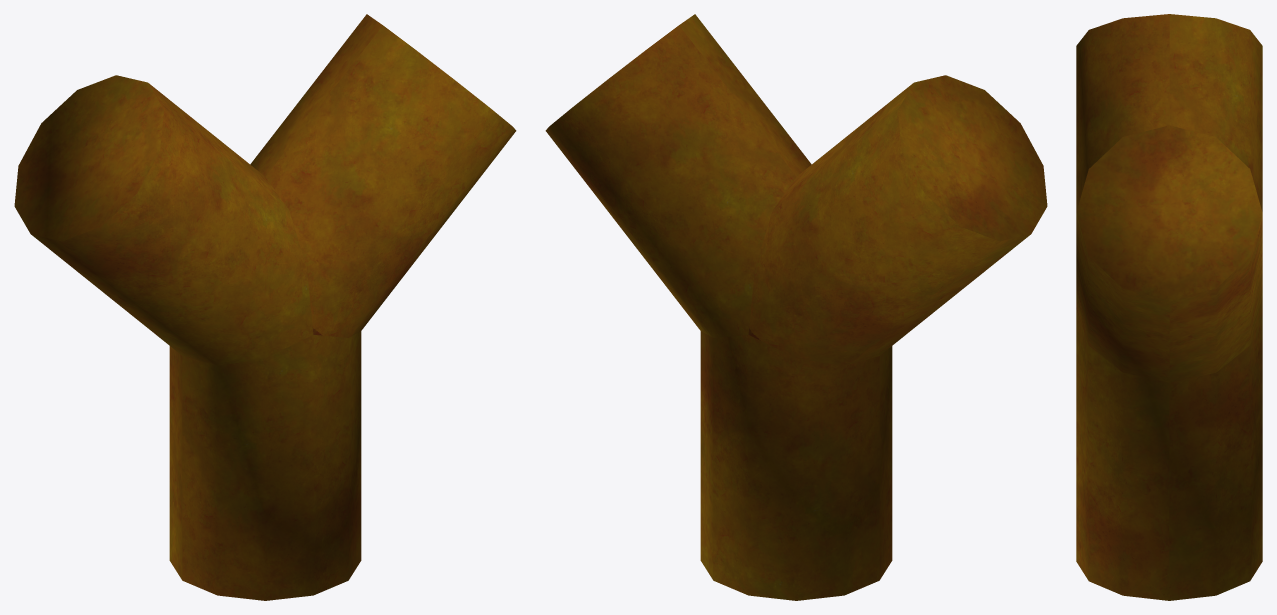
File: Pipe Y Small.fbx
3 renders of one model, left to right at view 1: azimuth 30°, elevation 25°; view 2: azimuth 150°, elevation 25°; view 3: azimuth 270°, elevation 25°, orthographic. The views are drawn at different scales.
Visible parts, largest first — view 1: Pipe Y; view 2: Pipe Y; view 3: Pipe Y.
Part boxes in pixels (x1=…): Pipe Y: x1=14, y1=14, x2=516, y2=600; Pipe Y: x1=545, y1=14, x2=1047, y2=600; Pipe Y: x1=1076, y1=14, x2=1262, y2=600.
Size of the model in its own units: 18.33 by 18.89 by 6.48.
